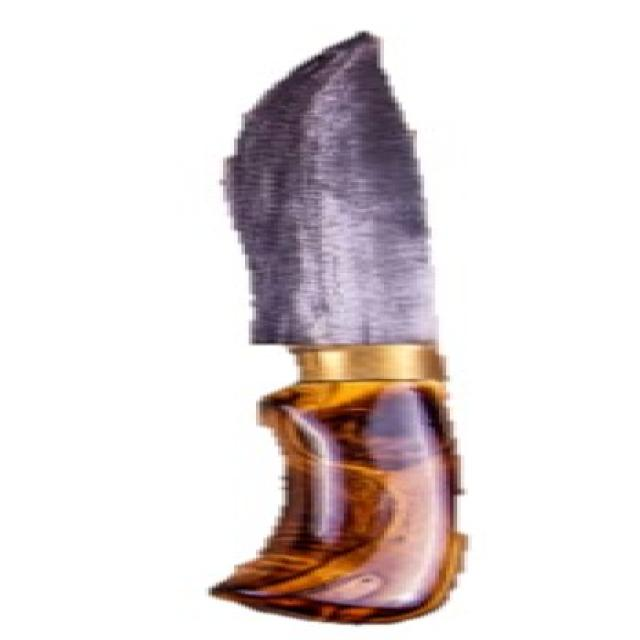knife: (193, 25, 538, 629)
